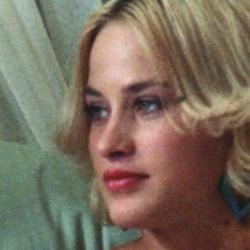face: (57, 1, 250, 235)
